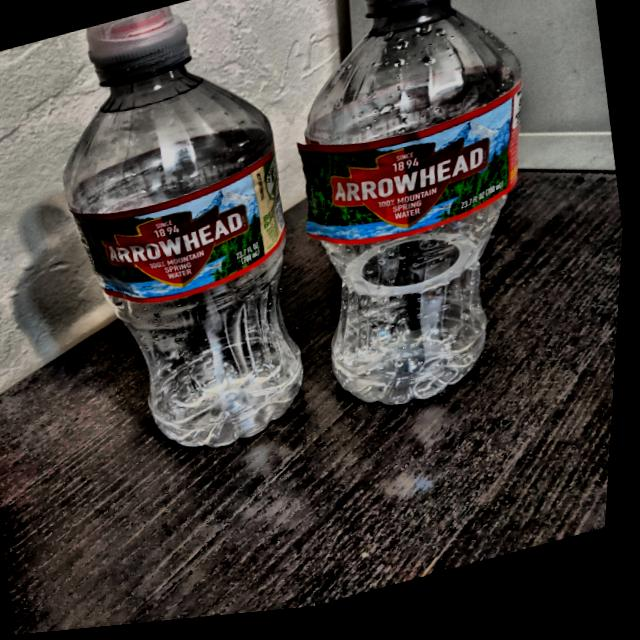Bottles: (10, 0, 359, 525), (251, 0, 579, 457)
